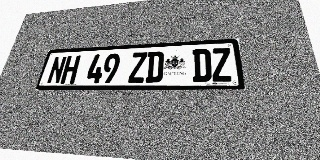4: (85, 54, 106, 83)
9: (101, 53, 121, 83)
D: (192, 49, 212, 82), (145, 51, 164, 83)
H: (60, 55, 81, 84)
N: (46, 56, 67, 84)
Z: (211, 48, 233, 82), (128, 52, 147, 83)
